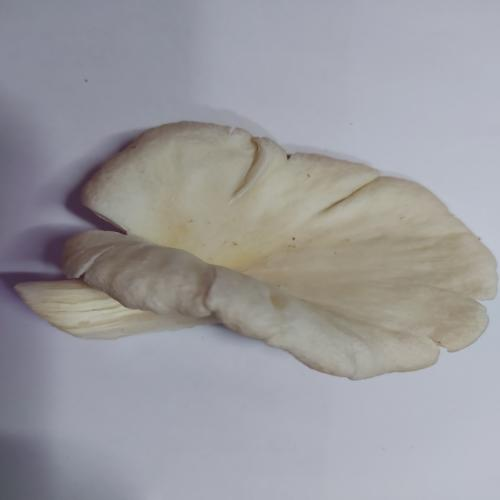Oyster Mushroom: (13, 119, 498, 381)
